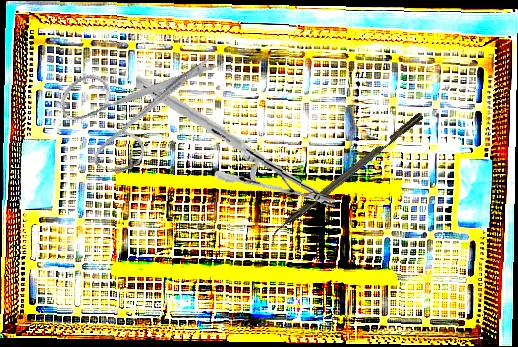Chopper: (263, 112, 430, 248)
Iris Scissors: (41, 8, 224, 195)
Needle Holder: (129, 74, 342, 211)
